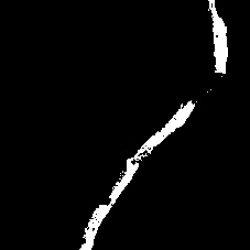crack: (81, 101, 198, 248), (208, 1, 229, 74)
